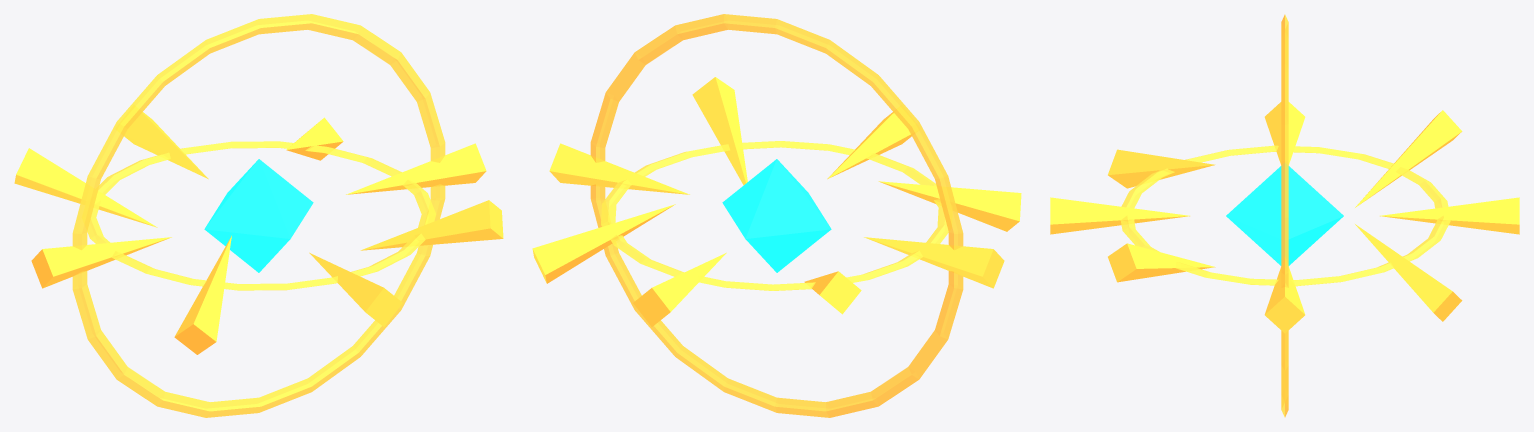
Rendered from aegis-s2-fx.glb.
3 views of the same model, side by side, from view 1: azimuth 30°, elevation 25°; view 2: azimuth 150°, elevation 25°; view 3: azimuth 270°, elevation 25° (orthographic). The views are drawn at different scales.
Visible parts, largest first — view 1: arc-x, core, arc-z, spike-1, spike-4, spike-0, spike-5, spike-3, spike-2, spike-6, spike-7; view 2: arc-x, core, arc-z, spike-7, spike-4, spike-0, spike-3, spike-1, spike-6, spike-2, spike-5; view 3: core, arc-z, arc-x, spike-2, spike-6, spike-7, spike-5, spike-1, spike-3, spike-0, spike-4.
Boxes of the visible parts, x1,y1,x2,y2 form: arc-x: [72, 14, 445, 417]; core: [204, 159, 313, 272]; arc-z: [87, 141, 436, 290]; spike-1: [360, 200, 503, 250]; spike-4: [31, 237, 171, 288]; spike-0: [346, 143, 486, 194]; spike-5: [14, 148, 157, 227]; spike-3: [174, 235, 231, 354]; spike-2: [309, 252, 402, 326]; spike-6: [124, 112, 208, 179]; spike-7: [286, 117, 343, 160]; arc-x: [590, 14, 963, 417]; core: [722, 159, 831, 272]; arc-z: [601, 141, 948, 290]; spike-7: [532, 204, 675, 283]; spike-4: [864, 237, 1004, 288]; spike-0: [549, 143, 689, 194]; spike-3: [878, 181, 1021, 231]; spike-1: [692, 77, 747, 185]; spike-6: [633, 252, 726, 326]; spike-2: [827, 112, 911, 179]; spike-5: [804, 271, 861, 314]; core: [1226, 166, 1343, 265]; arc-z: [1120, 145, 1450, 286]; arc-x: [1281, 14, 1288, 417]; spike-2: [1050, 197, 1189, 234]; spike-6: [1380, 197, 1519, 234]; spike-7: [1355, 224, 1462, 321]; spike-5: [1355, 110, 1462, 207]; spike-1: [1108, 243, 1215, 282]; spike-3: [1108, 149, 1215, 188]; spike-0: [1264, 266, 1305, 333]; spike-4: [1264, 102, 1305, 164].
Bounding box in the file's own units: 2.06 × 1.79 × 2.06.
